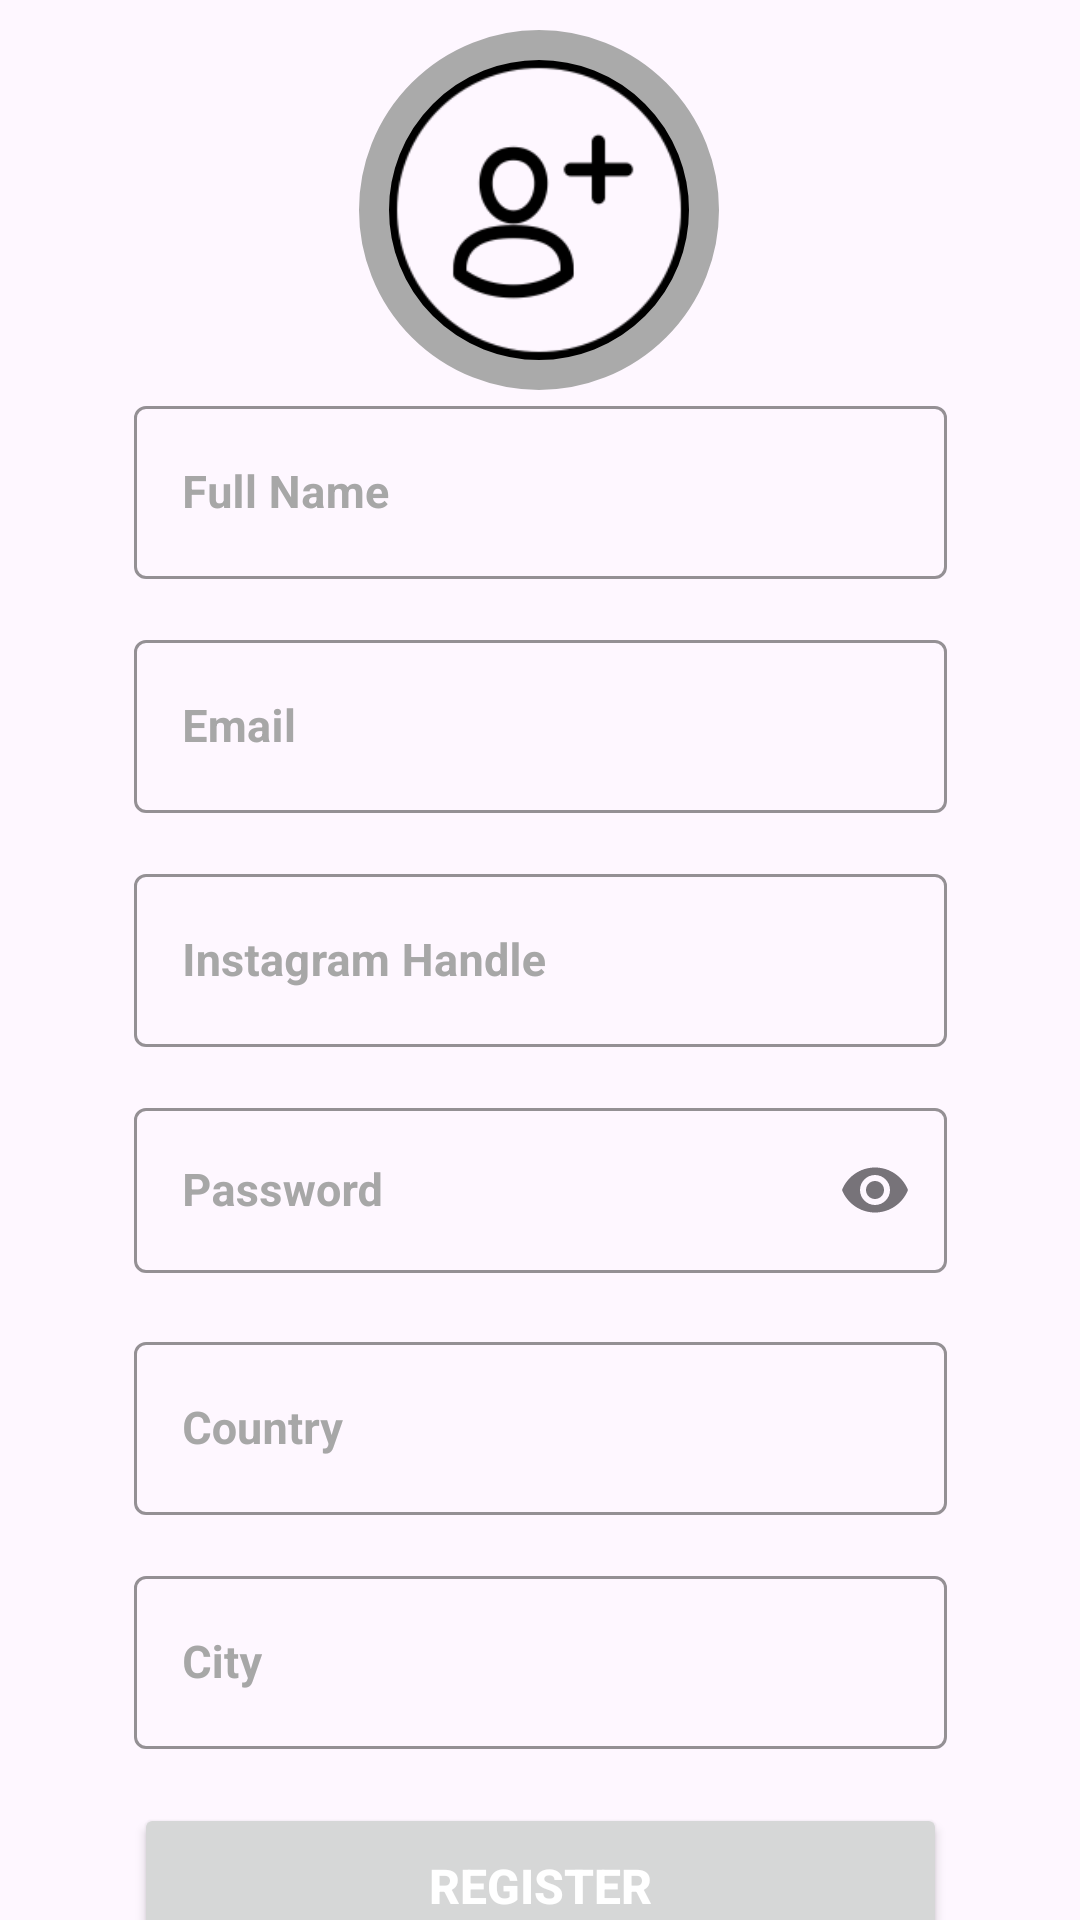

Screen size 1080x1920. Icon name, then its center in pixels as (x=x, y=y):
profile photo + change the photo: (x=539, y=210)
